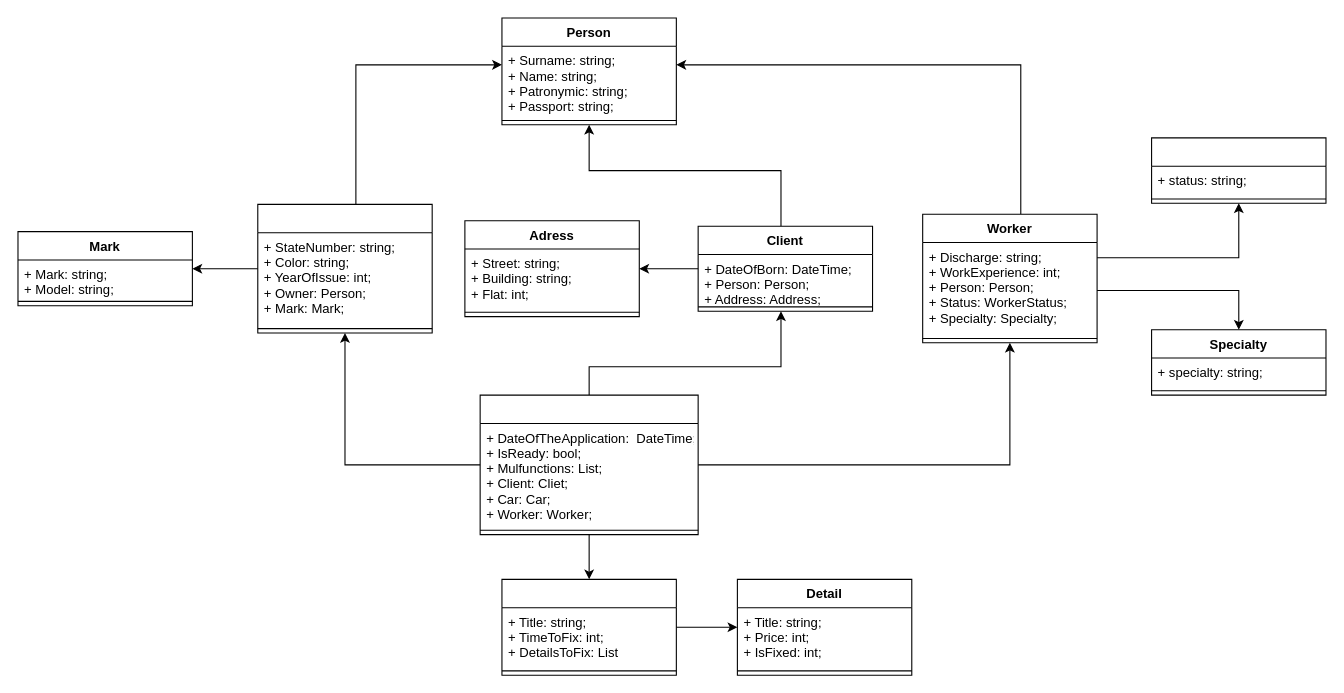
Image size: 1344x693. Some labels were removed from this diagram. Here are the shapes that lost their labels. From the top down, the box of each, then its label:
(1150, 137, 1326, 203): WorkerStatus
(257, 203, 432, 333): Car
(479, 394, 698, 535): RapairOrder
(501, 578, 676, 675): Mulfunction
